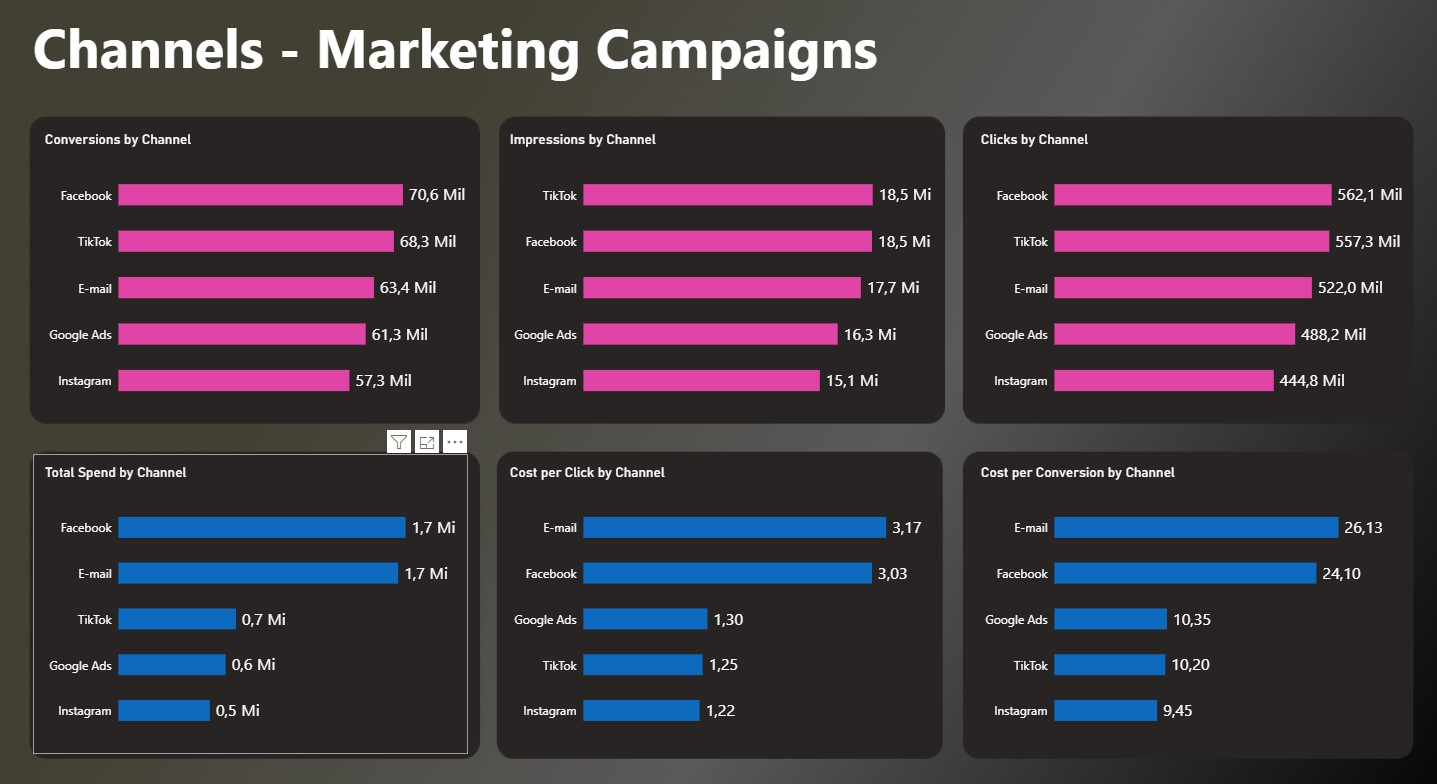

This screenshot's page, from the dashboard's own definition file:
{"tool":"powerbi","page":{"name":"Channel infos","canvas":[1920,1080],"ordinal":0},"visuals":[{"type":"clusteredBarChart","title":"Conversions by Channel","fields":{"Category":["marketing_campaign_data_messy.Channel"],"Y":["Medidas.conversions per channel"]},"box":[48.4,167.8,588.1,400.6],"z":0},{"type":"barChart","title":"Cost per Click by Channel","fields":{"Category":["marketing_campaign_data_messy.Channel"],"Y":["Medidas.Cost Per Click"]},"box":[663.7,609.3,577.5,396.1],"z":1000},{"type":"barChart","title":"Cost per Conversion by Channel","fields":{"Category":["marketing_campaign_data_messy.Channel"],"Y":["Medidas.Cost Per Conversion"]},"box":[1288.1,609.3,563.9,396.1],"z":2000},{"type":"clusteredBarChart","title":"Impressions by Channel","fields":{"Category":["marketing_campaign_data_messy.Channel"],"Y":["Medidas.Impressions by Channel"]},"box":[663.7,167.8,589.6,400.6],"z":3000},{"type":"clusteredBarChart","title":"Clicks by Channel","fields":{"Category":["marketing_campaign_data_messy.Channel"],"Y":["Medidas.Clicks by Channel"]},"box":[1288.1,167.8,589.6,400.6],"z":4000},{"type":"barChart","title":"Total Spend by Channel","fields":{"Category":["marketing_campaign_data_messy.Channel"],"Y":["Medidas.Spend by Channel"]},"box":[48.4,609.3,576,396.1],"z":5000},{"type":"textbox","box":[48.4,19.7,1192.8,133],"z":6000}]}

Visuals, with their boxes on the page's 1920x1080 design canvas (x1, y1, x2, y2). These are canvas units, not pixel positions in the 1437x784 screenshot, which may show the page scaled, cropped or inside an application window:
"Conversions by Channel" clusteredBarChart: 48,168,636,568
"Cost per Click by Channel" barChart: 664,609,1241,1005
"Cost per Conversion by Channel" barChart: 1288,609,1852,1005
"Impressions by Channel" clusteredBarChart: 664,168,1253,568
"Clicks by Channel" clusteredBarChart: 1288,168,1878,568
"Total Spend by Channel" barChart: 48,609,624,1005
textbox: 48,20,1241,153
